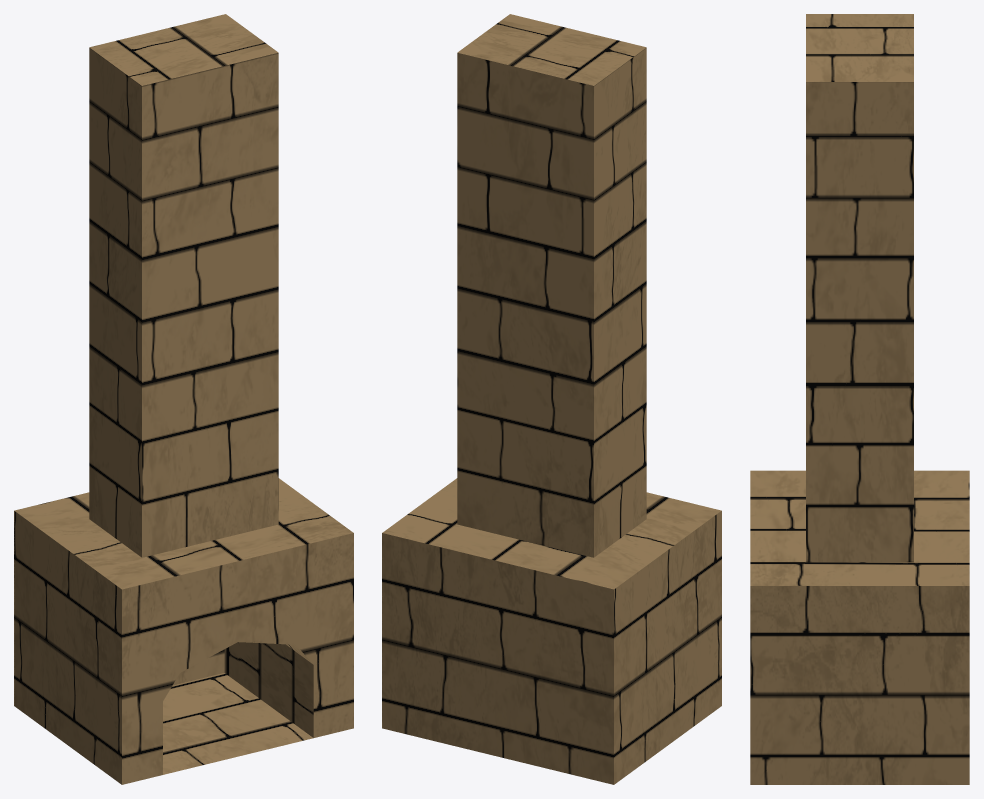
File: Chimenea.fbx
3 renders of one model, left to right at view 1: azimuth 30°, elevation 25°; view 2: azimuth 150°, elevation 25°; view 3: azimuth 270°, elevation 25°, orthographic.
Parts seen in each view (by area): view 1: Box001; view 2: Box001; view 3: Box001.
Boxes of the visible parts, bbox=[...] form: Box001: bbox=[14, 14, 353, 784]; Box001: bbox=[382, 14, 721, 784]; Box001: bbox=[750, 14, 969, 784].
Bounding box in the file's own units: 0.9 × 2.47 × 0.725.
Materials: 1 (1 with a texture image).
